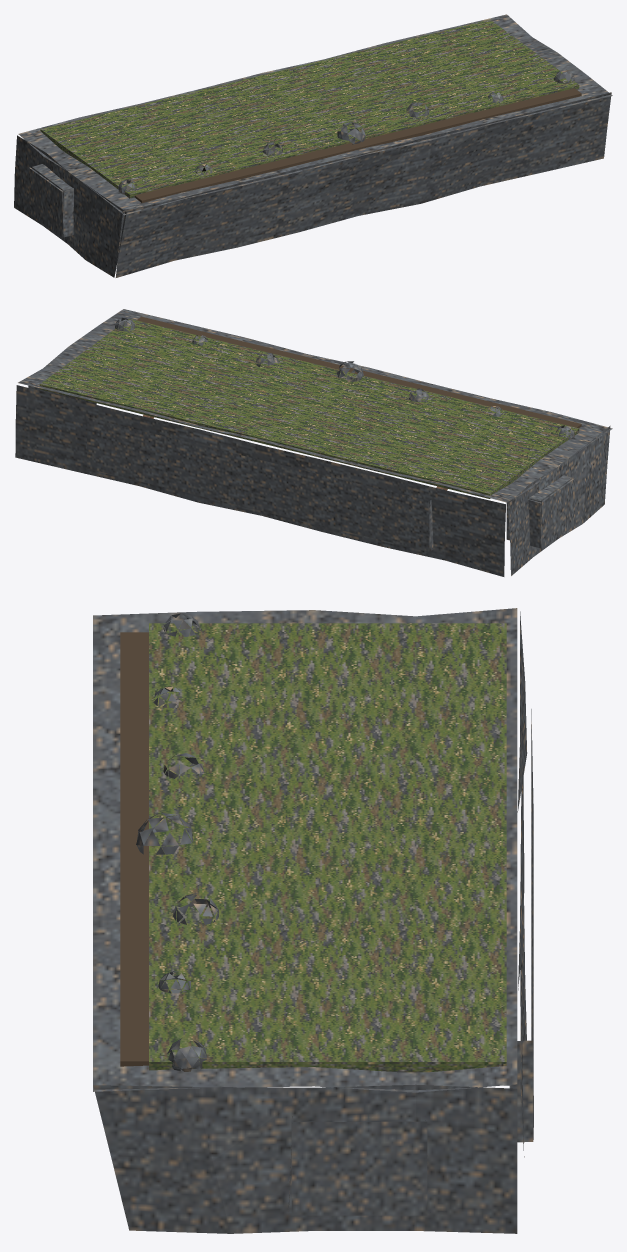
Rendered from ledgeShelf.glb.
3 views of the same model, one above another, from view 1: azimuth 30°, elevation 25°; view 2: azimuth 150°, elevation 25°; view 3: azimuth 270°, elevation 25° (orthographic). The views are drawn at different scales.
Parts seen in each view (by area): view 1: LOD0.terrain.cliff, LOD0.terrain.ground, LOD0._5a4a3a; view 2: LOD0.terrain.cliff, LOD0.terrain.ground, LOD0._5a4a3a; view 3: LOD0.terrain.ground, LOD0.terrain.cliff, LOD0._5a4a3a.
Part boxes in pixels (left/top/right/bottom): LOD0.terrain.cliff: left=14, top=14, right=612, bottom=277; LOD0.terrain.ground: left=40, top=19, right=579, bottom=198; LOD0._5a4a3a: left=134, top=88, right=581, bottom=202; LOD0.terrain.cliff: left=15, top=309, right=612, bottom=576; LOD0.terrain.ground: left=39, top=319, right=579, bottom=498; LOD0._5a4a3a: left=136, top=316, right=581, bottom=428; LOD0.terrain.ground: left=149, top=623, right=506, bottom=1072; LOD0.terrain.cliff: left=93, top=608, right=533, bottom=1233; LOD0._5a4a3a: left=120, top=632, right=148, bottom=1066.
Size of what is drawn, in the model's own units: 52.68 by 9.13 by 19.53.
4 materials, 4 textured.
